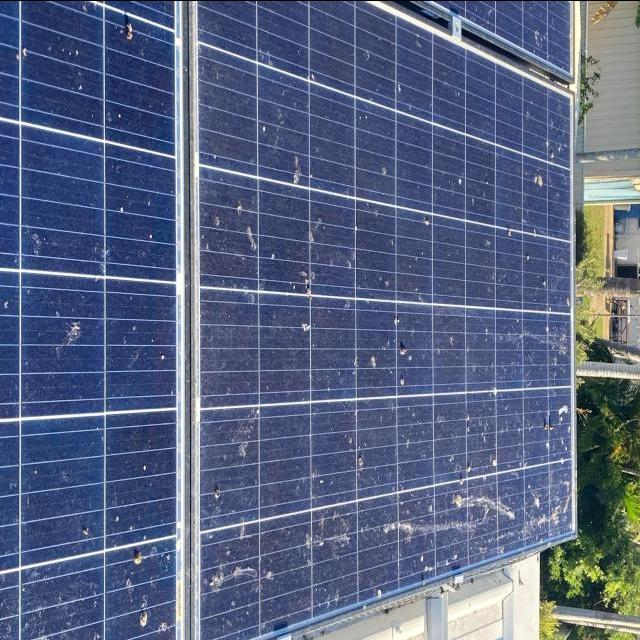soiled: (188, 3, 574, 636), (0, 0, 180, 639)
